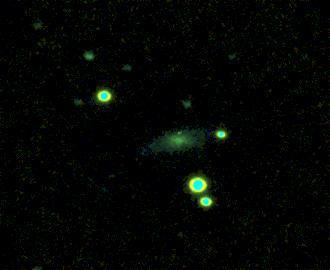star: (162, 121, 192, 151)
